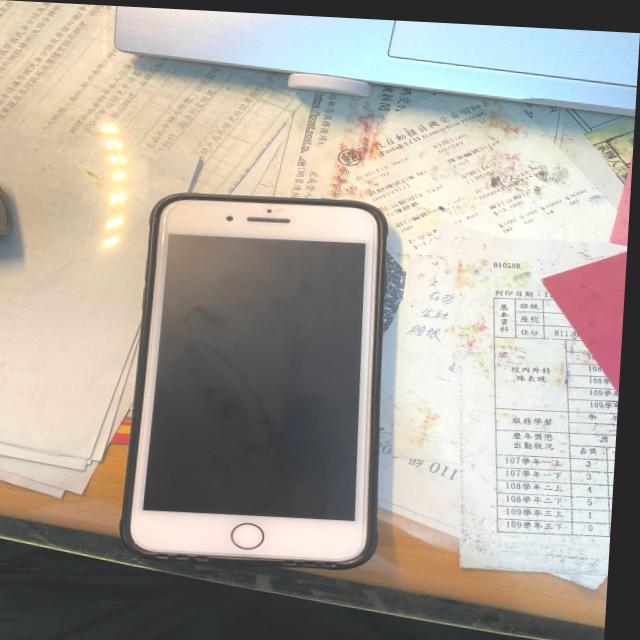Smartphone: (119, 179, 399, 577)
